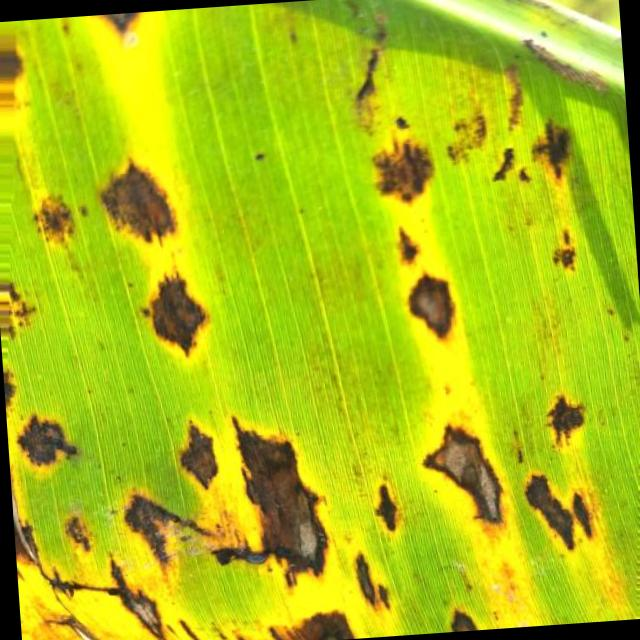Banana_Yellow_Sigatoka: (0, 159, 360, 640), (366, 118, 612, 560)
